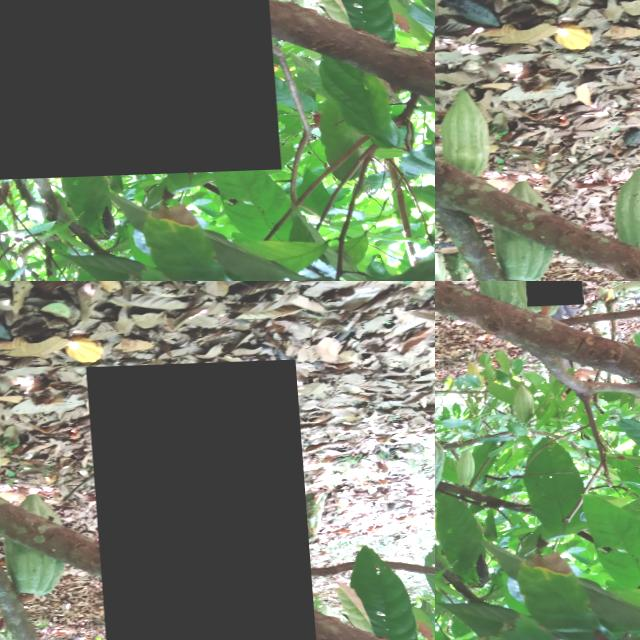Fitoftora: (84, 363, 312, 640), (566, 34, 640, 238), (308, 423, 351, 481)
Monilia: (0, 0, 273, 181)
Sana: (435, 183, 578, 281), (345, 418, 407, 476), (323, 392, 367, 435), (514, 281, 579, 309), (480, 281, 523, 314), (502, 379, 527, 426), (451, 451, 471, 493)
